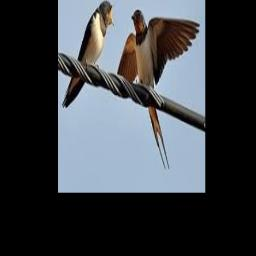Swallow: (116, 9, 200, 168), (61, 2, 114, 108)
